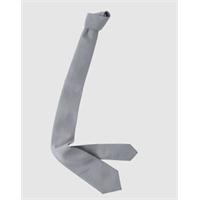tie: (50, 12, 138, 196)
